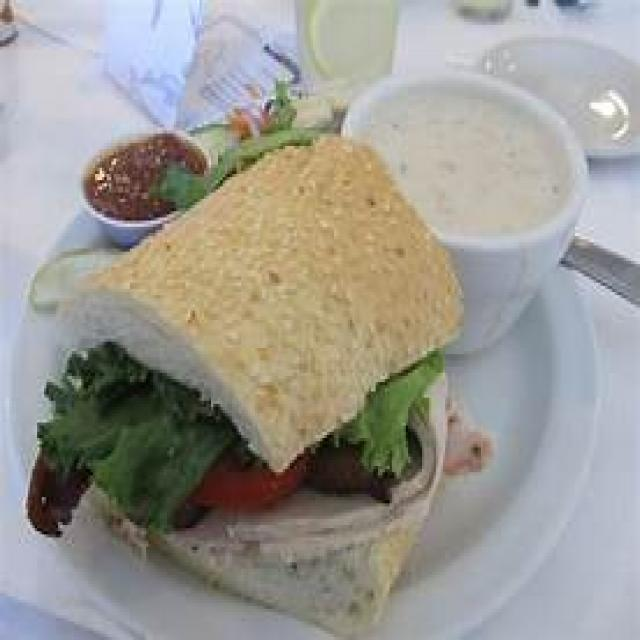Sandwich: (39, 136, 471, 624)
